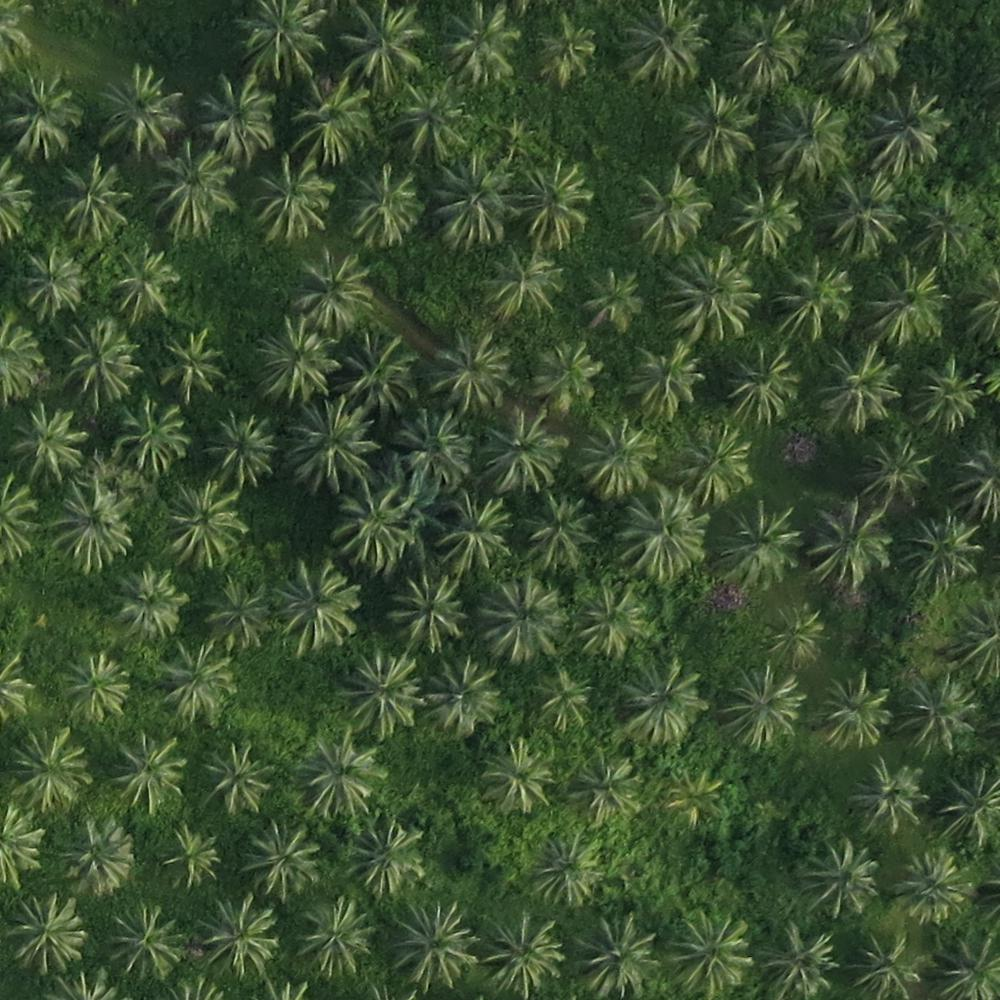Palm: (657, 248, 755, 341), (610, 659, 711, 747), (268, 563, 361, 656), (425, 164, 519, 256), (279, 404, 375, 493), (384, 901, 477, 991), (610, 494, 711, 576), (149, 144, 239, 233), (161, 482, 249, 573), (196, 69, 280, 164), (329, 480, 417, 568), (336, 5, 428, 89), (894, 512, 987, 595), (95, 67, 181, 156), (806, 505, 895, 591), (816, 7, 904, 93), (765, 92, 849, 182), (49, 481, 132, 572), (247, 319, 338, 401), (717, 665, 805, 749), (666, 915, 755, 998), (287, 249, 373, 334), (424, 331, 510, 416), (619, 6, 708, 88), (813, 345, 897, 431), (294, 738, 380, 822), (290, 78, 371, 167), (152, 638, 237, 722), (57, 322, 139, 409), (479, 576, 563, 660), (570, 915, 662, 991), (8, 727, 91, 811), (864, 93, 949, 175), (632, 169, 717, 251), (337, 332, 420, 415), (391, 80, 475, 162), (235, 2, 328, 76), (720, 9, 806, 89), (478, 415, 566, 493), (673, 90, 756, 172), (239, 821, 321, 904), (428, 491, 512, 572), (718, 343, 803, 423), (108, 729, 187, 815), (772, 260, 854, 342), (863, 264, 945, 346), (7, 891, 86, 976), (481, 918, 569, 994), (575, 416, 657, 497), (52, 161, 131, 245), (438, 2, 523, 80), (196, 898, 281, 976), (345, 652, 421, 739), (253, 161, 334, 242), (624, 342, 707, 421), (720, 507, 804, 585), (294, 901, 378, 979), (54, 816, 135, 896), (344, 166, 422, 249), (825, 175, 902, 259), (112, 397, 191, 478), (201, 408, 280, 489), (815, 673, 894, 754), (386, 572, 464, 654), (515, 159, 589, 244), (192, 577, 278, 650), (390, 415, 472, 491), (849, 756, 930, 832), (10, 402, 84, 485), (105, 904, 184, 981), (7, 76, 83, 156), (518, 498, 600, 572), (344, 818, 423, 894), (677, 429, 757, 504), (106, 246, 183, 323), (525, 340, 604, 415), (420, 658, 499, 733), (798, 842, 877, 917), (571, 749, 646, 825), (895, 846, 969, 923), (901, 678, 979, 751), (730, 177, 802, 256), (198, 742, 275, 815), (911, 357, 984, 434), (521, 666, 599, 738), (152, 327, 229, 399), (527, 834, 604, 906), (52, 651, 130, 721), (761, 924, 837, 995), (14, 247, 91, 317), (478, 743, 553, 814), (530, 16, 605, 86), (485, 249, 560, 319), (115, 566, 186, 639), (848, 932, 923, 996), (575, 588, 645, 656), (861, 438, 933, 504), (660, 764, 731, 829), (154, 827, 223, 893), (763, 602, 827, 664), (588, 268, 645, 334)
